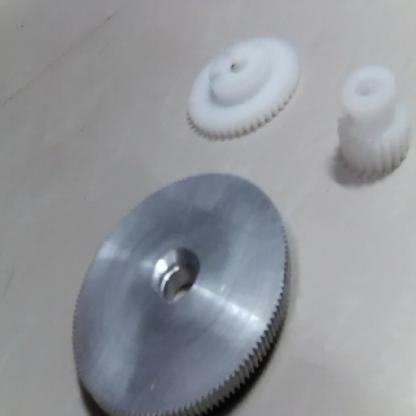FOD: (58, 165, 296, 415), (179, 33, 301, 147), (333, 60, 415, 178)
